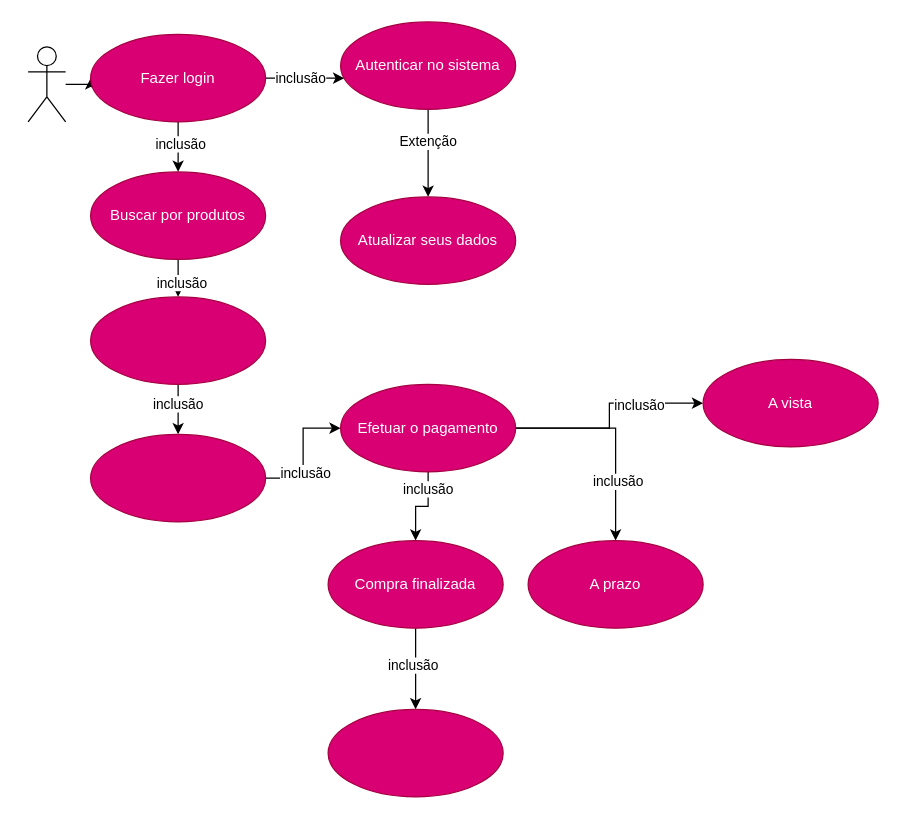
The diagram is 900 pixels wide and 819 high, and some of its shapes have lost their labels. Each missing label, with the centre of its shape:
"Conclusão da compra" belongs at [177,477].
"Emissão do comprovante" belongs at [415,752].
"Realizar uma compra" belongs at [177,340].
"Usuário" belongs at [46,84].
